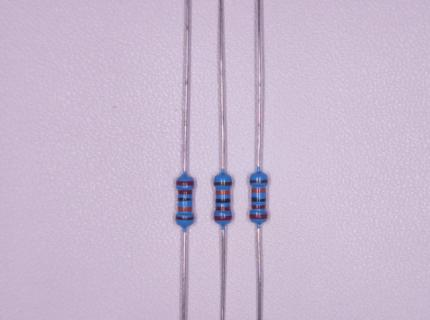Black band: (178, 197, 192, 202), (252, 197, 266, 202), (216, 199, 230, 203)
Brown band: (176, 216, 194, 221), (249, 180, 268, 184), (214, 182, 232, 186)
Orange band: (178, 207, 192, 212), (216, 190, 230, 195), (252, 188, 266, 193)
Red band: (213, 215, 232, 221), (176, 180, 194, 186), (250, 214, 267, 219), (215, 206, 230, 211), (251, 205, 266, 209), (178, 190, 192, 194)
